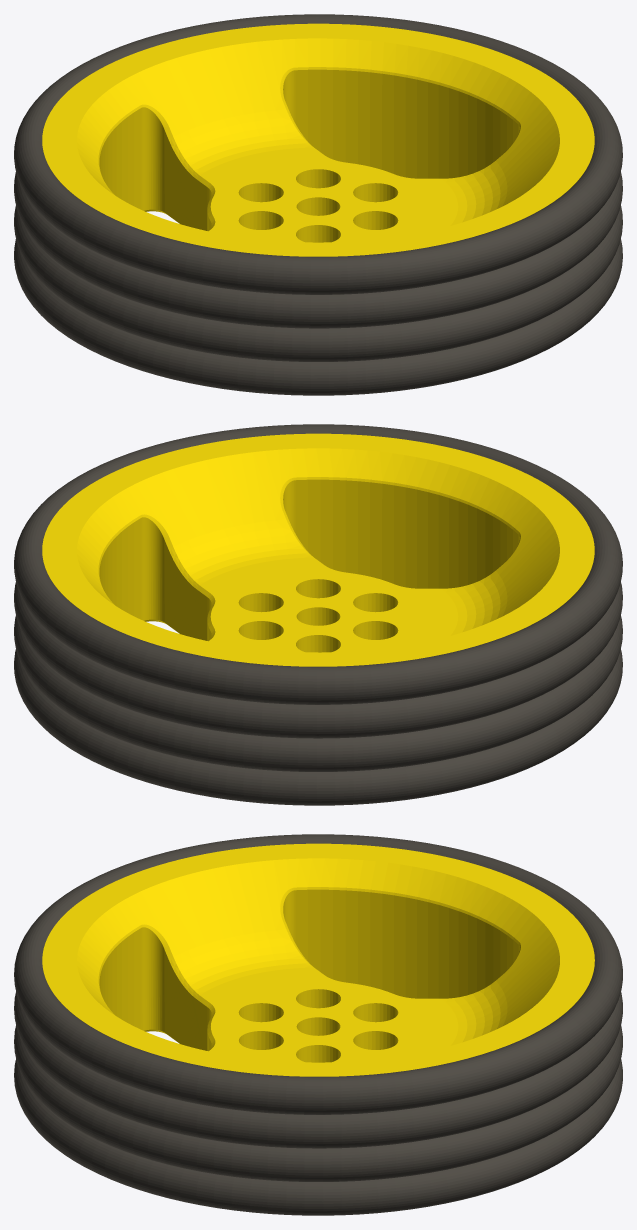
Rendered from Wheel_pinna_bot.dae.
3 views of the same model, one above another, from view 1: azimuth 30°, elevation 25°; view 2: azimuth 150°, elevation 25°; view 3: azimuth 270°, elevation 25° (orthographic).
Visible parts, largest first — view 1: 5f2073be60ed3d10c40e551b (×2); view 2: 5f2073be60ed3d10c40e551b (×2); view 3: 5f2073be60ed3d10c40e551b (×2).
Part boxes in pixels (x1,y1,x2,y2): 5f2073be60ed3d10c40e551b (×2): [14, 14, 622, 395]; 5f2073be60ed3d10c40e551b (×2): [14, 424, 622, 805]; 5f2073be60ed3d10c40e551b (×2): [14, 834, 622, 1215].
Bounding box in the file's own units: 0.0876 × 0.0876 × 0.0216.
